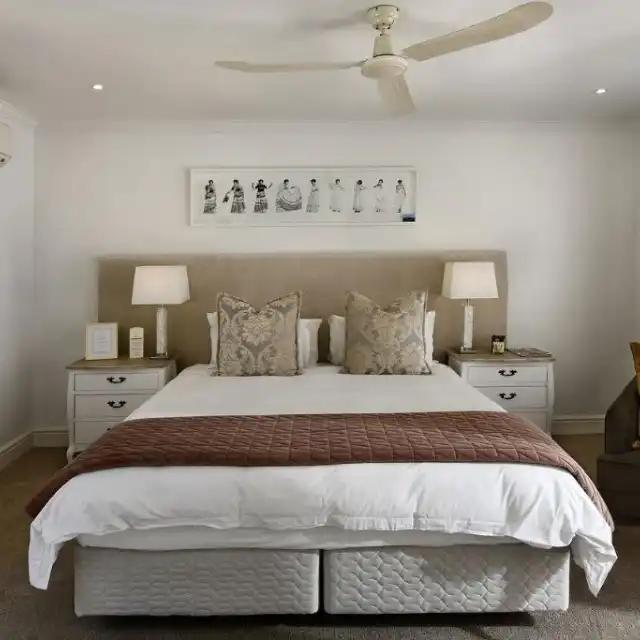bed: (32, 377, 618, 613)
lamp: (121, 255, 196, 363), (437, 259, 505, 361)
pillow: (341, 282, 432, 381), (218, 292, 305, 375)
